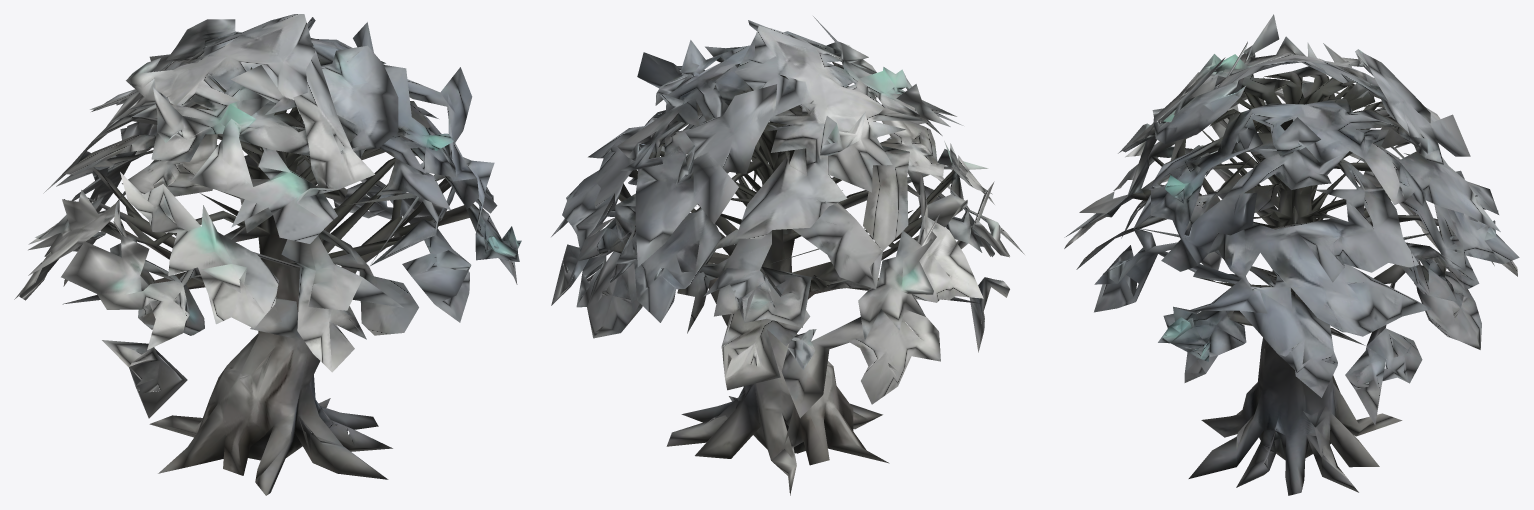
The model's file is tree.glb.
The picture shows the model from 3 angles, left to right: view 1: azimuth 30°, elevation 25°; view 2: azimuth 150°, elevation 25°; view 3: azimuth 270°, elevation 25°; orthographic projection. The views are drawn at different scales.
Parts seen in each view (by area): view 1: tripo_node_b9df97e3-77c0-4547-9446-e342ebd44238; view 2: tripo_node_b9df97e3-77c0-4547-9446-e342ebd44238; view 3: tripo_node_b9df97e3-77c0-4547-9446-e342ebd44238.
Boxes of the visible parts, x1,y1,x2,y2 form: tripo_node_b9df97e3-77c0-4547-9446-e342ebd44238: (14, 14, 521, 495); tripo_node_b9df97e3-77c0-4547-9446-e342ebd44238: (551, 16, 1024, 495); tripo_node_b9df97e3-77c0-4547-9446-e342ebd44238: (1064, 14, 1519, 495).
Size of the model in its own units: 0.9641 by 0.8727 by 0.9017.
Materials: 1 (1 with a texture image).
